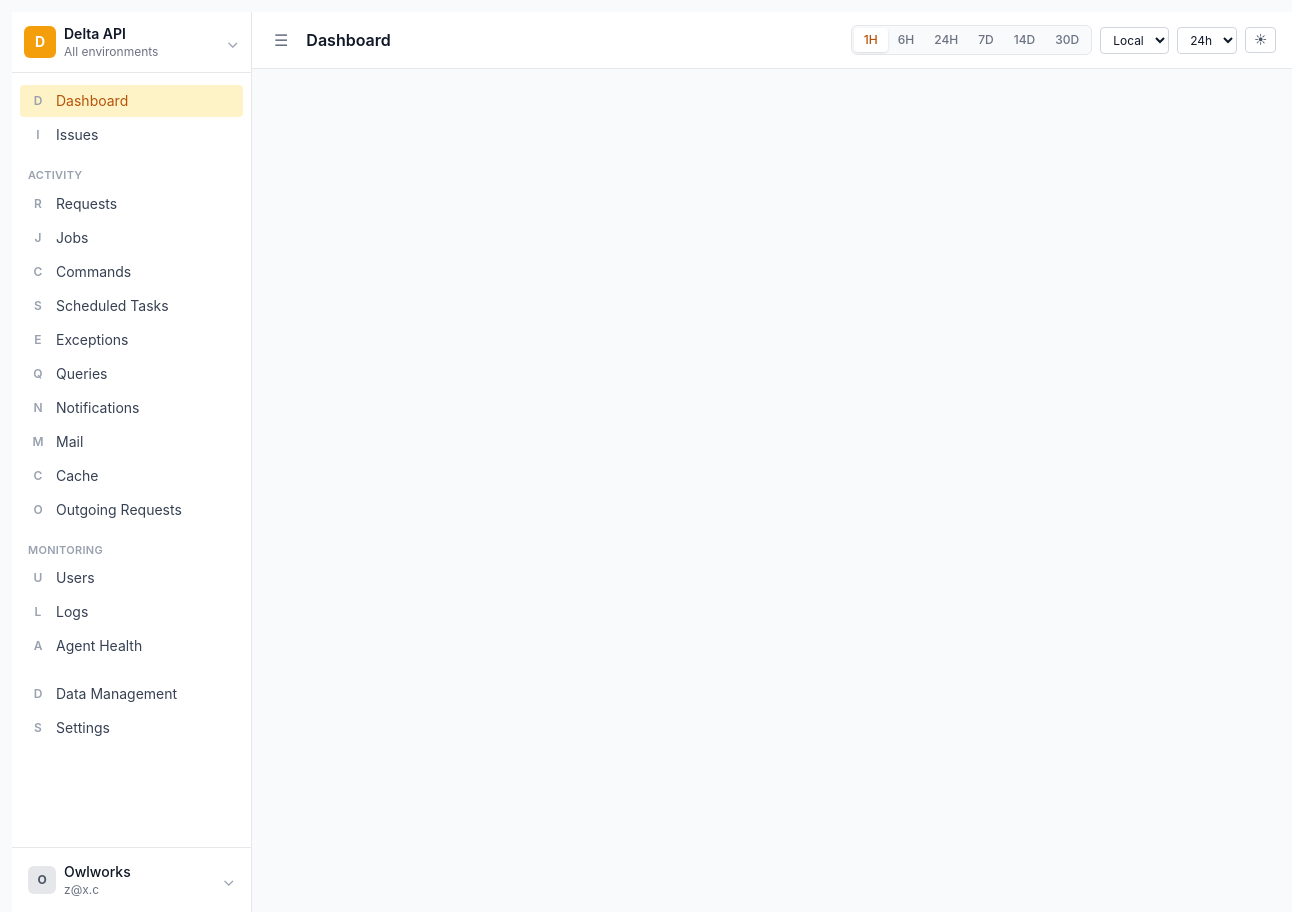
Test: AppShell — account menu (finding #12) › opens a dropdown with Account / Team / theme toggle / Log out
The width and height of the screenshot is (1292, 912).
Click the button with test id "account-trigger". click: coordinates (132, 880)
box: [20,856,243,904]
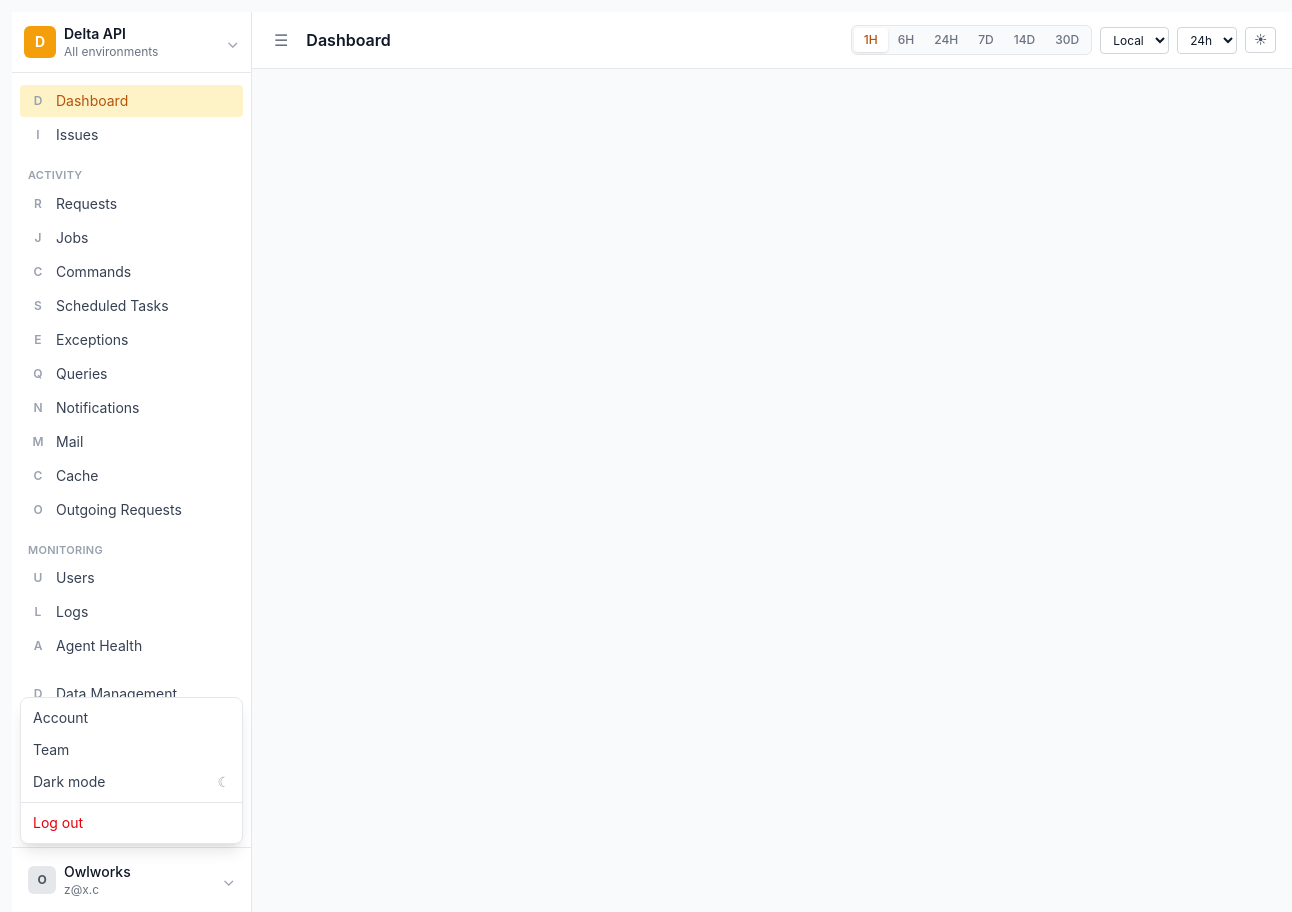
Result: the element with test id "account-menu" is shown at [20,697,243,844]
Result: the element with test id "account-menu" shows "Account" at [21,702,242,734]
Result: the element with test id "account-menu" shows "Team" at [21,734,242,766]
